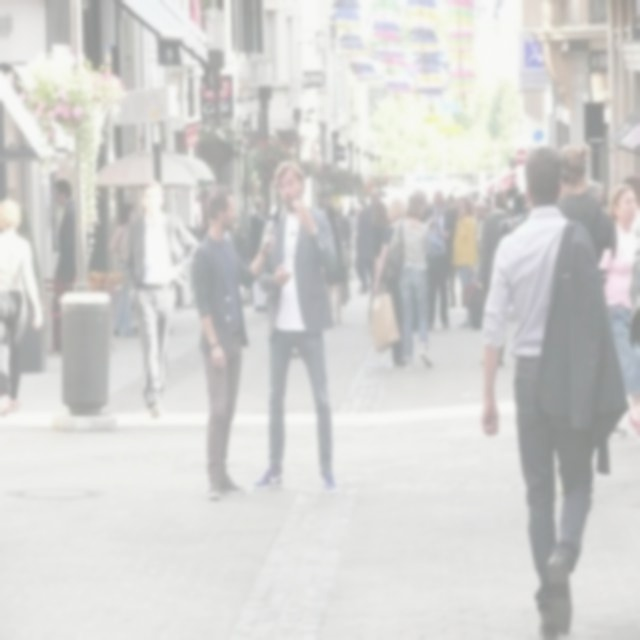pessoa: (478, 141, 632, 639), (250, 157, 342, 497), (190, 180, 276, 500), (122, 178, 202, 418), (597, 181, 639, 441), (0, 194, 45, 417), (384, 191, 434, 372), (554, 146, 617, 288), (372, 196, 408, 368), (422, 185, 452, 334), (450, 194, 480, 330), (108, 202, 137, 340), (474, 190, 512, 292), (52, 177, 79, 295), (630, 173, 639, 350), (368, 186, 389, 259), (371, 198, 392, 260), (506, 182, 532, 225), (334, 198, 354, 252), (586, 172, 610, 212), (468, 192, 492, 220), (252, 198, 266, 233), (317, 188, 333, 210), (444, 190, 458, 210), (352, 193, 366, 213)
